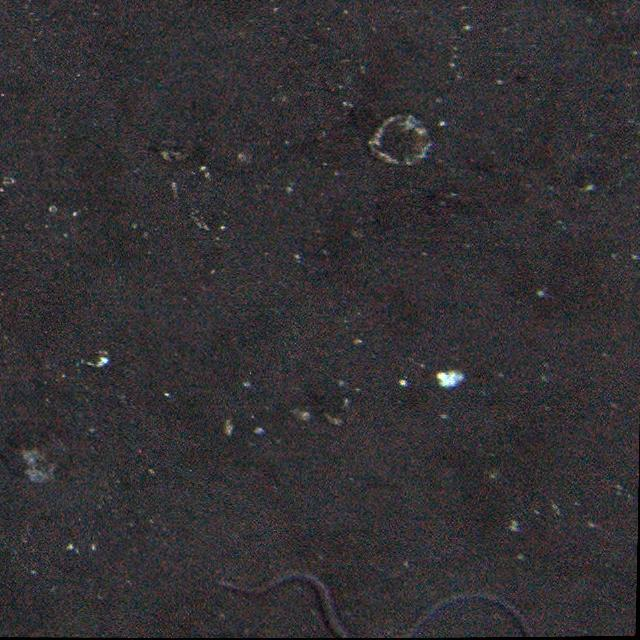eel: (216, 563, 548, 640)
